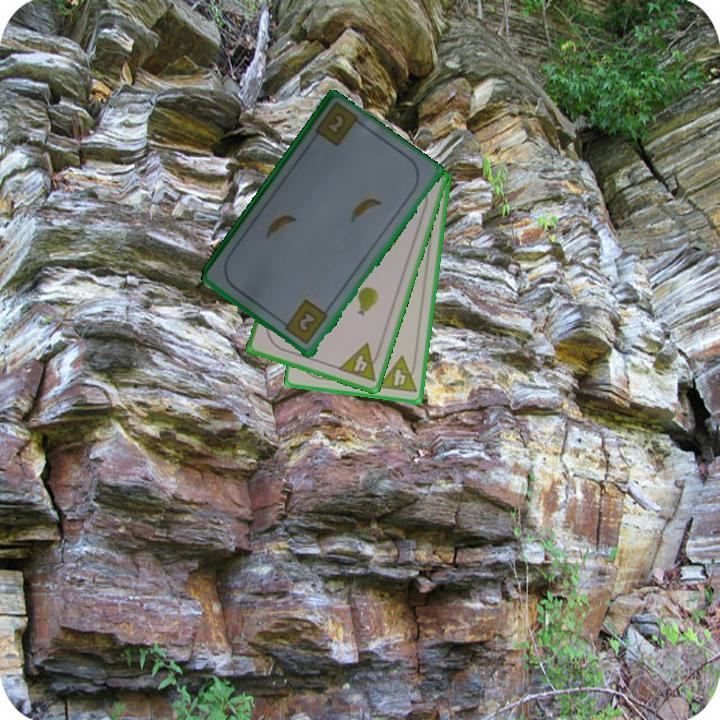2b: (278, 296, 331, 348), (322, 112, 347, 139)
4p: (334, 340, 384, 385), (375, 353, 420, 396)
